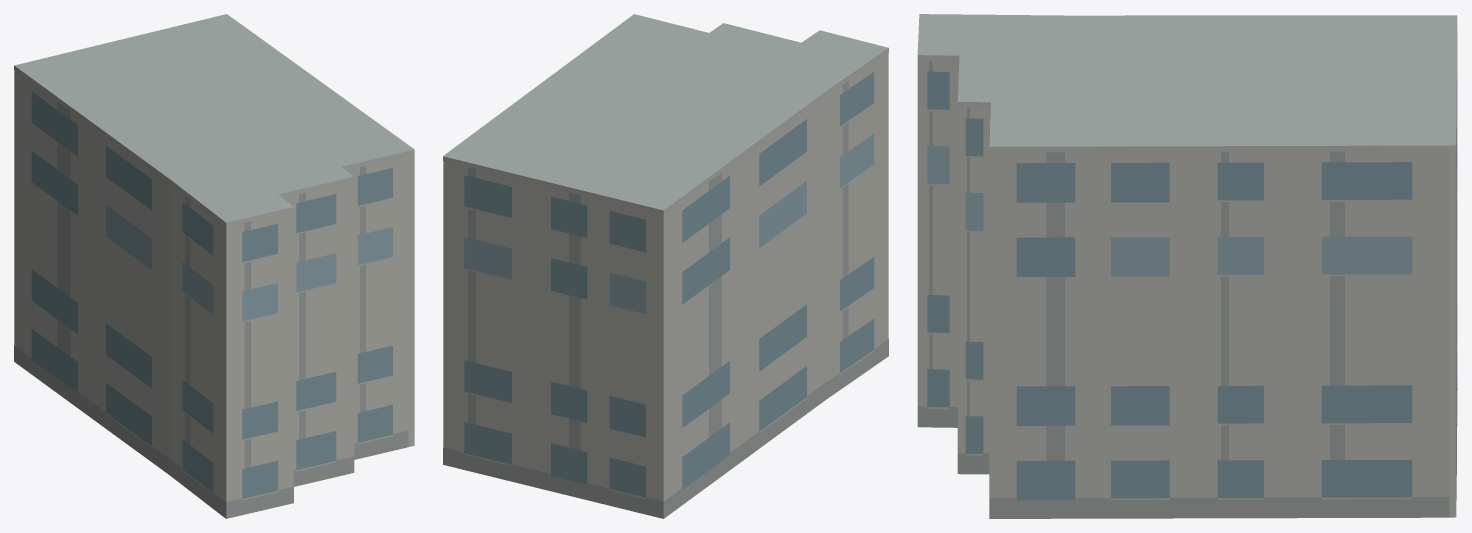
The model's file is survey-upis-32755983.glb.
3 views of the same model, side by side, from view 1: azimuth 30°, elevation 25°; view 2: azimuth 150°, elevation 25°; view 3: azimuth 270°, elevation 25° (orthographic). The views are drawn at different scales.
Visible parts, largest first — view 1: survey-upis-32755983.tmp; view 2: survey-upis-32755983.tmp; view 3: survey-upis-32755983.tmp.
Part boxes in pixels (left/top/right/bottom): survey-upis-32755983.tmp: left=14, top=14, right=414, bottom=518; survey-upis-32755983.tmp: left=443, top=14, right=888, bottom=518; survey-upis-32755983.tmp: left=917, top=14, right=1457, bottom=518.
Size of the model in its own units: 12.02 by 15.7 by 20.65.
